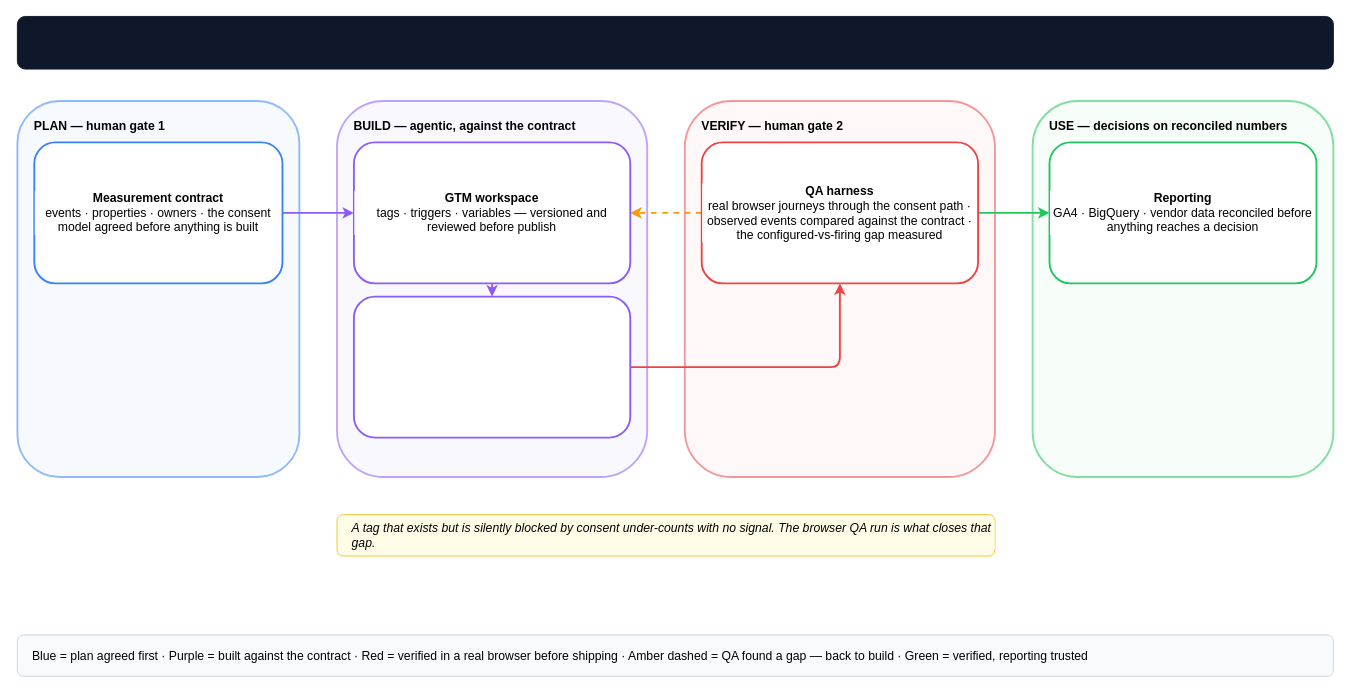
Some shapes in this 1350 by 693 pixel diagram are drawn without their labels. Each missing label, with the centre of its shape:
"Agentic web analytics — governed implementation to verified reporting" goes at (674,42).
"GA4 property events stream in — what fires depends on consent" goes at (491,366).
